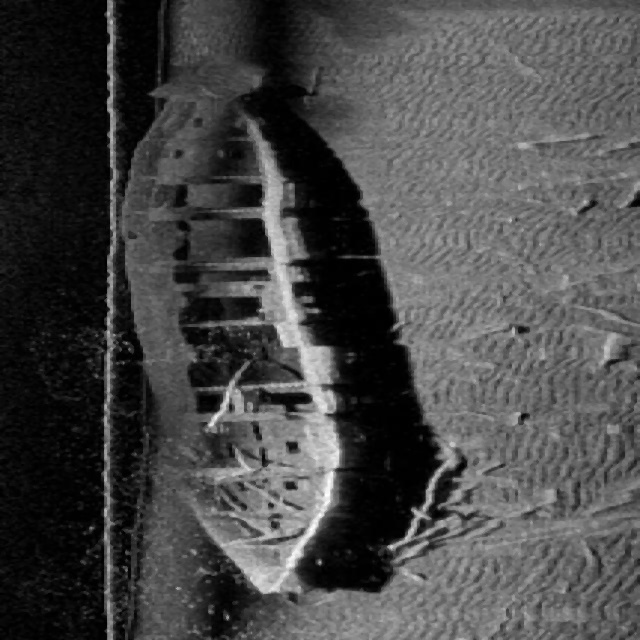Ship: (91, 45, 397, 610)
